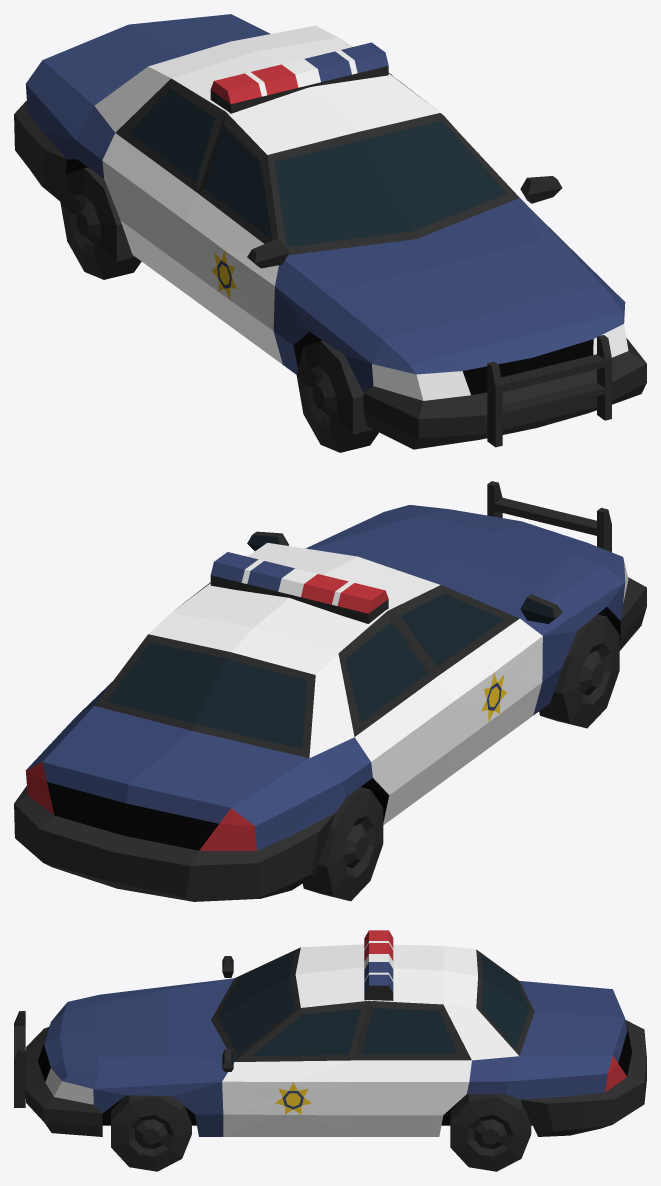
The model's file is car-police.glb.
The picture shows the model from 3 angles, top to bottom: view 1: azimuth 30°, elevation 25°; view 2: azimuth 150°, elevation 25°; view 3: azimuth 270°, elevation 25°; orthographic projection. The views are drawn at different scales.
Parts seen in each view (by area): view 1: car-police-base, car-police-wheel_FR, car-police-wheel_BR; view 2: car-police-base, car-police-wheel_BR, car-police-wheel_FR; view 3: car-police-base, car-police-wheel_BL, car-police-wheel_FL.
Boxes of the visible parts, <box> form: car-police-base: <box>14,14,646,449</box>; car-police-wheel_FR: <box>296,340,378,452</box>; car-police-wheel_BR: <box>60,167,141,279</box>; car-police-base: <box>14,481,646,901</box>; car-police-wheel_BR: <box>302,787,383,901</box>; car-police-wheel_FR: <box>539,614,619,728</box>; car-police-base: <box>14,930,646,1136</box>; car-police-wheel_BL: <box>450,1094,531,1171</box>; car-police-wheel_FL: <box>111,1095,191,1171</box>.
Bounding box in the file's own units: 2.19 × 1.59 × 5.44.
Materials: 1 (1 with a texture image).
